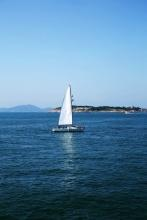fanchuan: (50, 85, 87, 134)
